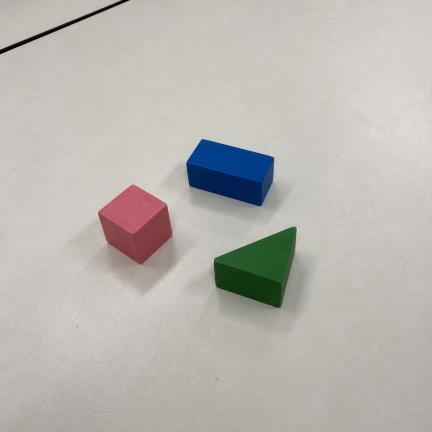BuildingBlocks: (214, 227, 296, 307), (99, 185, 172, 263), (187, 140, 274, 205)
